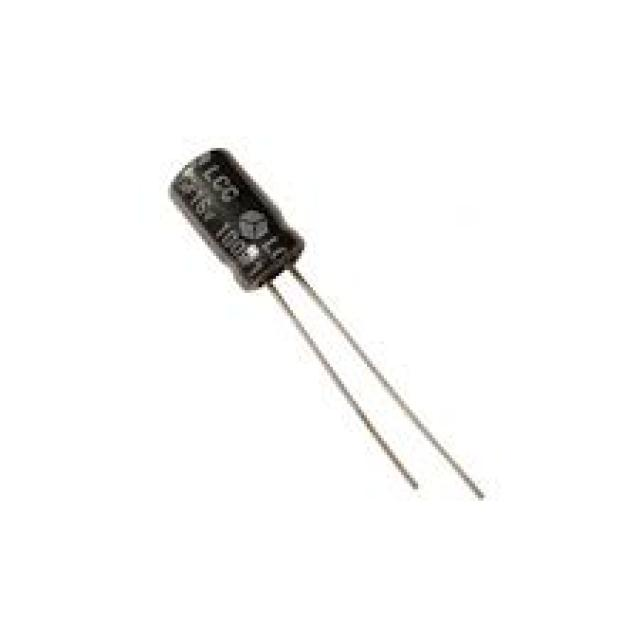Capacitor: (168, 148, 495, 503)
